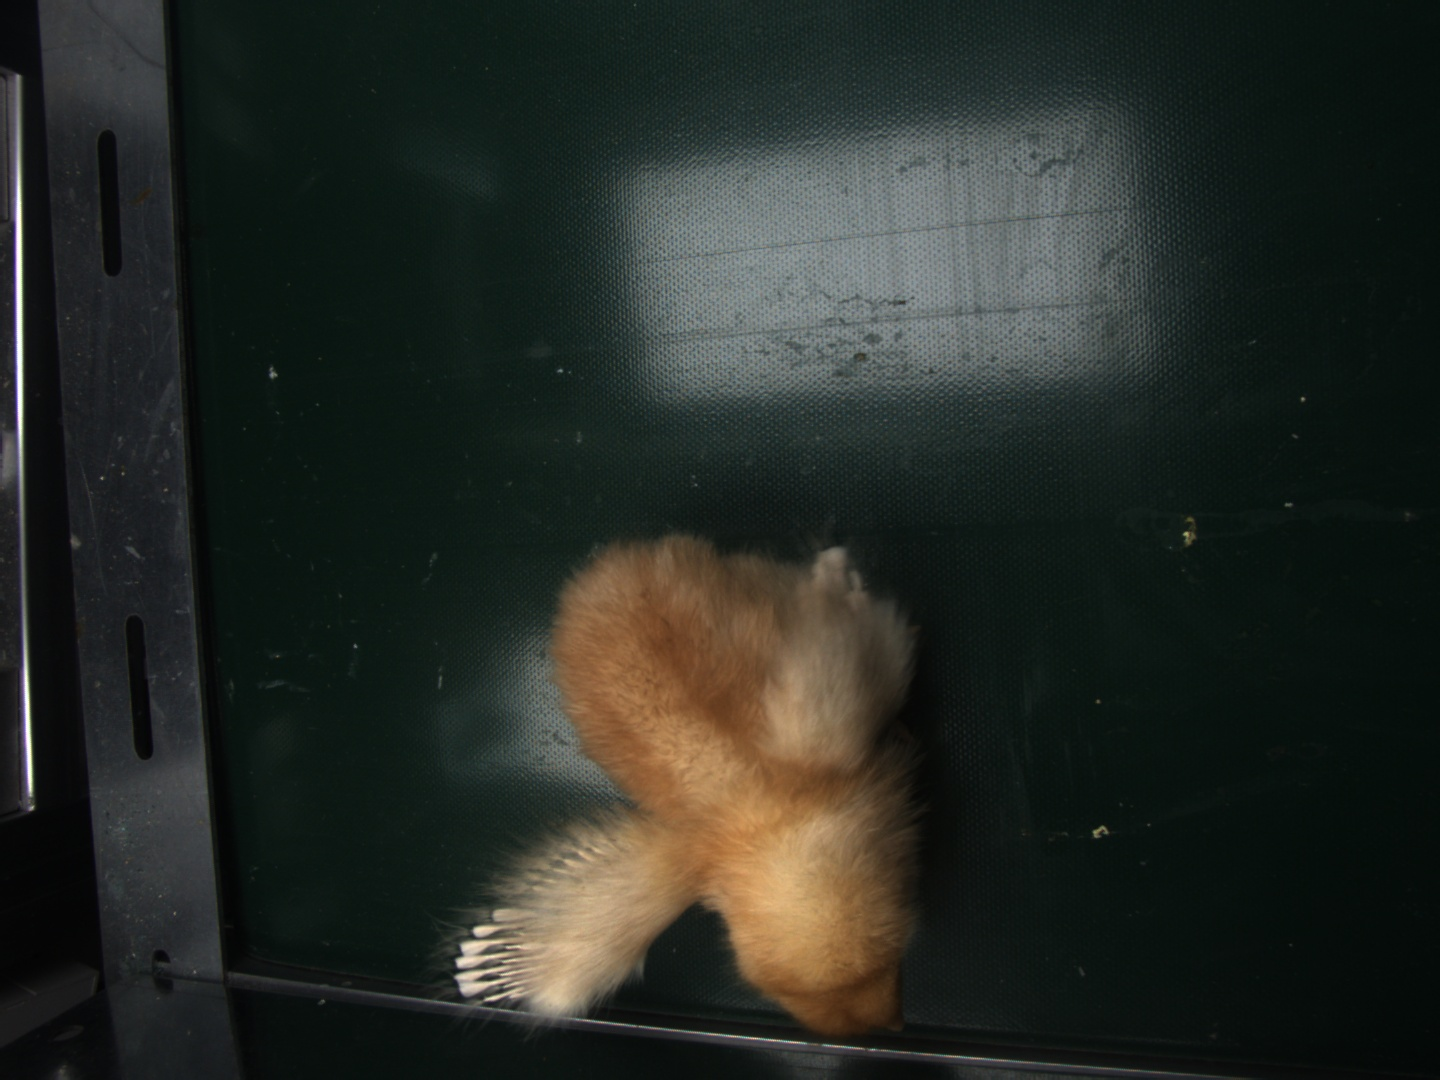female: (457, 914, 537, 1010)
